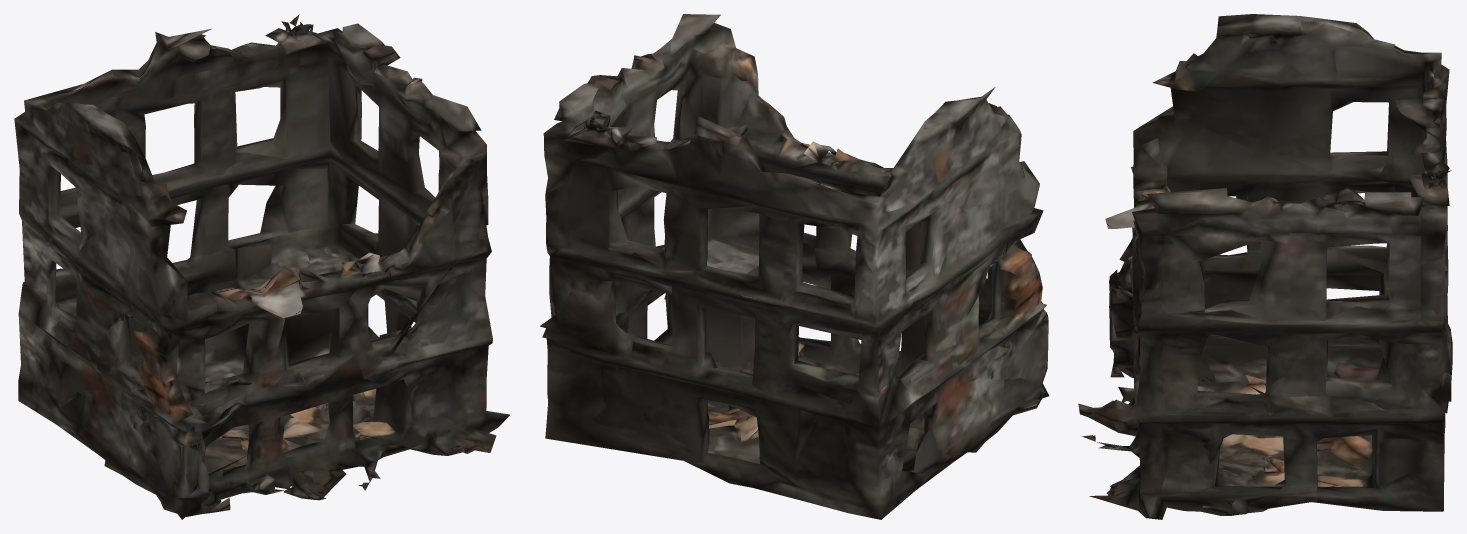
Rendered from p8ruin.glb.
The picture shows the model from 3 angles, left to right: view 1: azimuth 30°, elevation 25°; view 2: azimuth 150°, elevation 25°; view 3: azimuth 270°, elevation 25°; orthographic projection. The views are drawn at different scales.
Visible parts, largest first — view 1: tripo_node_65875d3e-dd45-4cd3-b188-6a554993f6c7; view 2: tripo_node_65875d3e-dd45-4cd3-b188-6a554993f6c7; view 3: tripo_node_65875d3e-dd45-4cd3-b188-6a554993f6c7.
Boxes of the visible parts, x1,y1,x2,y2 form: tripo_node_65875d3e-dd45-4cd3-b188-6a554993f6c7: [14, 14, 509, 519]; tripo_node_65875d3e-dd45-4cd3-b188-6a554993f6c7: [540, 14, 1049, 519]; tripo_node_65875d3e-dd45-4cd3-b188-6a554993f6c7: [1078, 14, 1452, 519].
Bounding box in the file's own units: 0.9485 × 0.8642 × 0.8644.
1 material, 1 textured.
